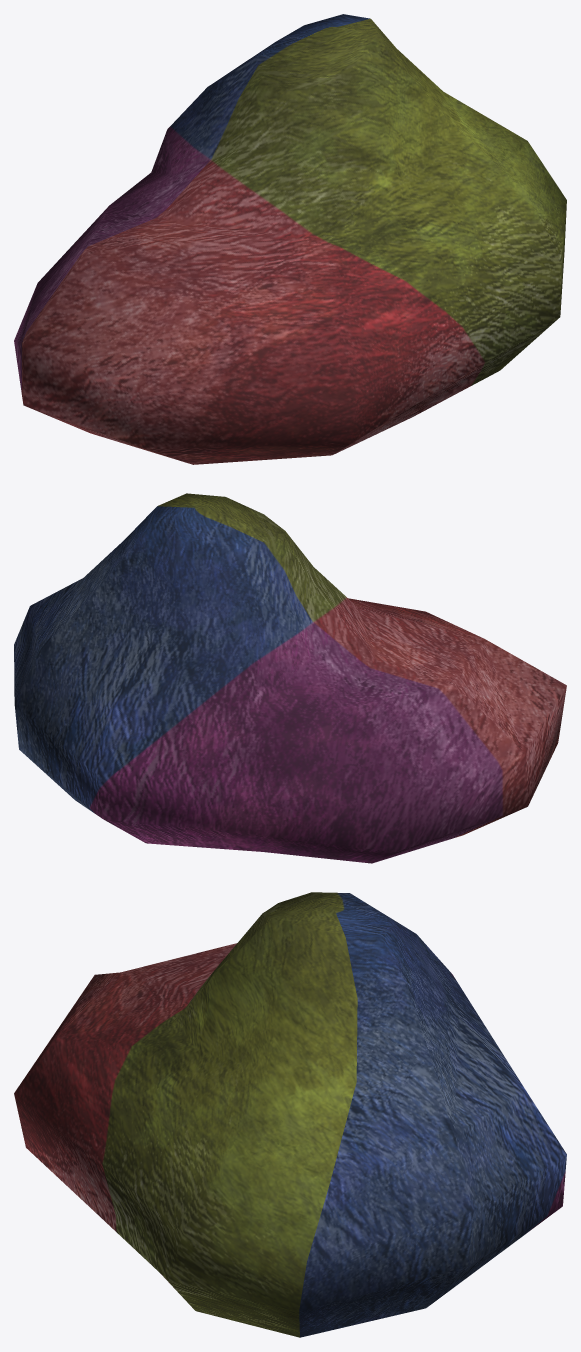
Rendered from Bush01.glb.
3 renders of one model, top to bottom at view 1: azimuth 30°, elevation 25°; view 2: azimuth 150°, elevation 25°; view 3: azimuth 270°, elevation 25°, orthographic. The views are drawn at different scales.
Visible parts, largest first — view 1: Bush01; view 2: Bush01; view 3: Bush01.
Part boxes in pixels (x1,y1,x2,y2): Bush01: (14,14,566,464); Bush01: (14,493,566,863); Bush01: (14,892,566,1337).
Bounding box in the file's own units: 2.45 × 1.34 × 1.94.
1 material, 1 textured.
